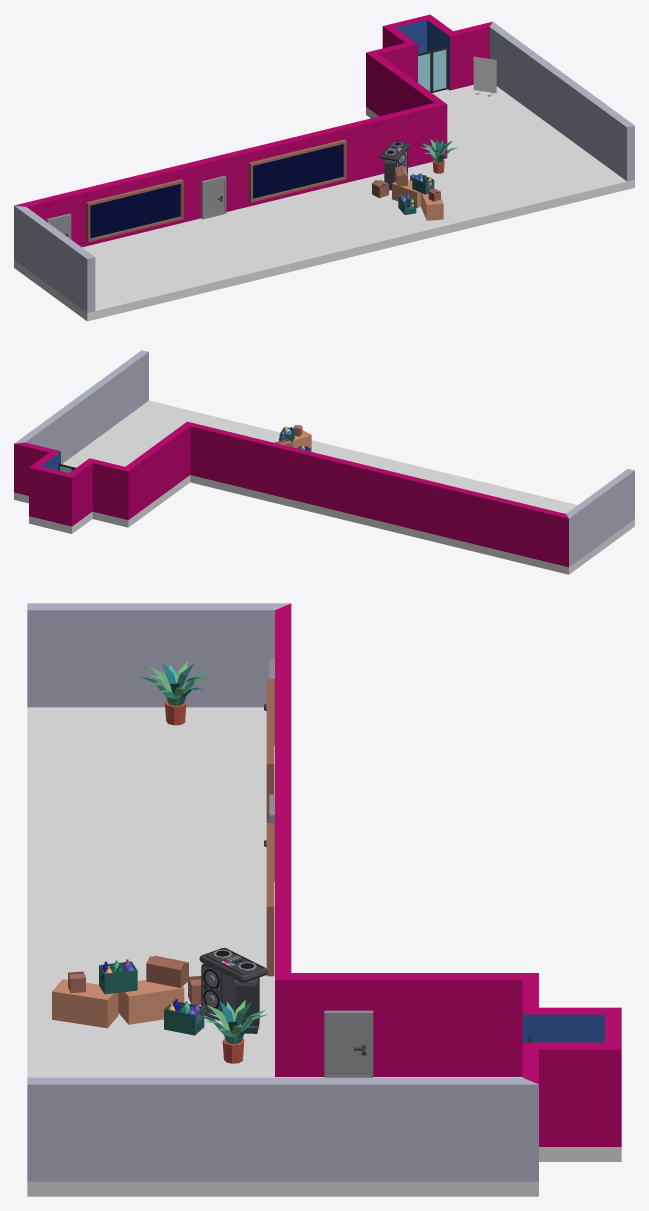
File: Flur.fbx
3 renders of one model, top to bottom at view 1: azimuth 30°, elevation 25°; view 2: azimuth 150°, elevation 25°; view 3: azimuth 270°, elevation 25°, orthographic. The views are drawn at different scales.
Parts seen in each view (by area): view 1: BodenQuestFloor, WallsQuestFloor, PinWand.001, PinWand, FilmRoomDoorEntry/Exit, Eningang Poster.001, AufZugTurRechts.002, Pflanze GameLab.001, AufZugTurLinks.002, Karton; view 2: WallsQuestFloor, BodenQuestFloor; view 3: WallsQuestFloor, BodenQuestFloor, DesignRoomDoorEntry, Karton, Karton.004, Pflanze GameLab.001, Pflanze GameLab.002, Speaker Rechts.002, PinWand.001, DJ Mixer.001, GetraenkeKiste, GetraenkeKiste.002 (+3 smaller).
Part boxes in pixels (box(x1,y1,x2,y2)): BodenQuestFloor: box(14, 85, 634, 321); WallsQuestFloor: box(14, 14, 634, 312); PinWand.001: box(248, 139, 346, 202); PinWand: box(86, 179, 183, 242); FilmRoomDoorEntry/Exit: box(201, 176, 226, 219); Eningang Poster.001: box(473, 56, 496, 96); AufZugTurRechts.002: box(431, 47, 447, 92); Pflanze GameLab.001: box(420, 138, 458, 173); AufZugTurLinks.002: box(418, 51, 432, 92); Karton: box(421, 193, 443, 220); WallsQuestFloor: box(14, 350, 634, 567); BodenQuestFloor: box(14, 400, 634, 574); WallsQuestFloor: box(27, 603, 621, 1181); BodenQuestFloor: box(27, 707, 621, 1196); DesignRoomDoorEntry: box(324, 1010, 373, 1077); Karton: box(52, 979, 118, 1028); Karton.004: box(118, 980, 184, 1024); Pflanze GameLab.001: box(198, 1000, 268, 1063); Pflanze GameLab.002: box(140, 661, 209, 725); Speaker Rechts.002: box(201, 964, 235, 1020); PinWand.001: box(266, 823, 274, 976); DJ Mixer.001: box(199, 948, 267, 982); GetraenkeKiste: box(164, 999, 204, 1035); GetraenkeKiste.002: box(99, 959, 137, 994).
Size of the model in its own units: 6900 by 750 by 3600.
1 material, 1 textured.
